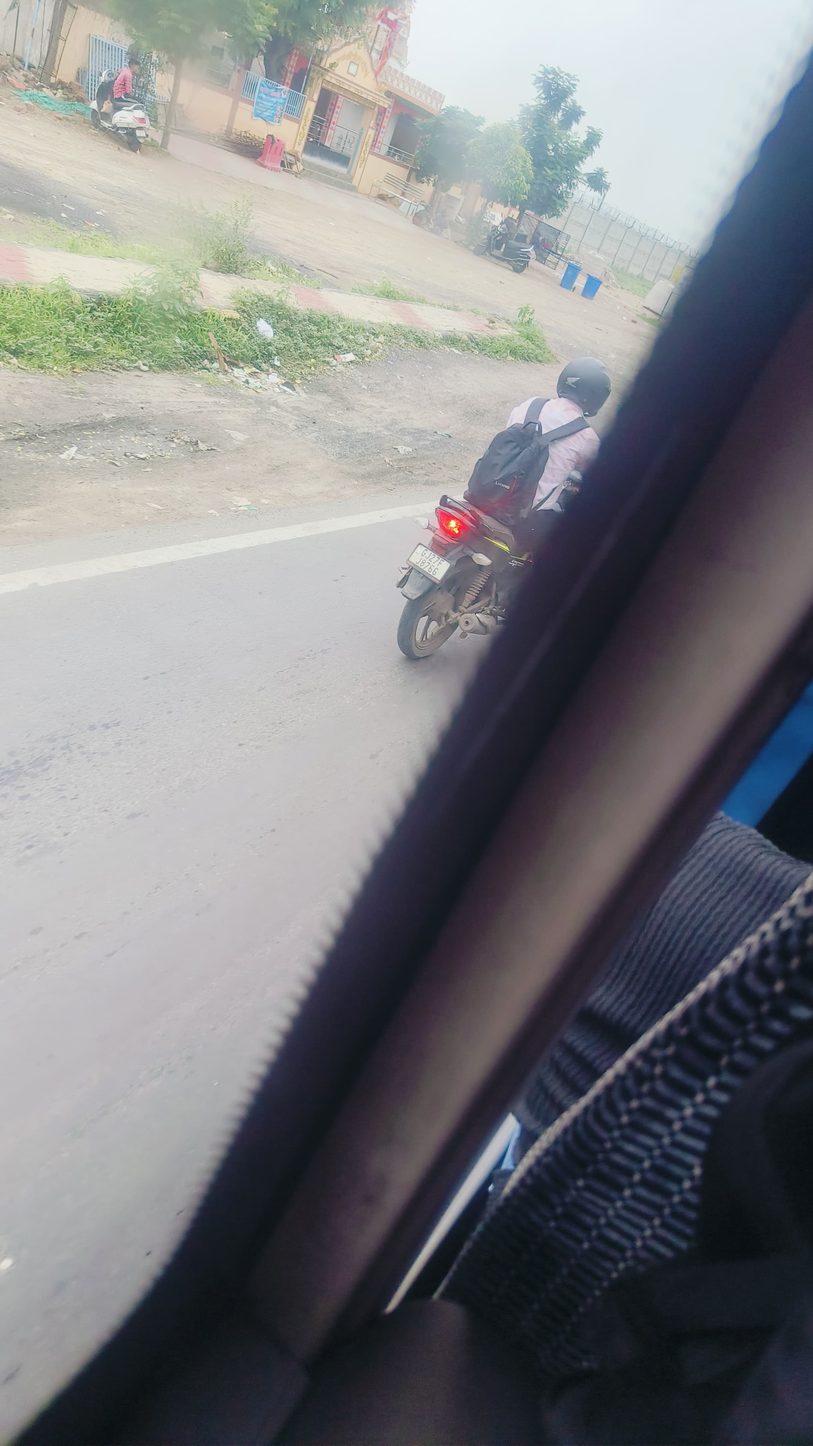BikeWithRider: (384, 344, 626, 673)
Helmet: (547, 348, 620, 422)
